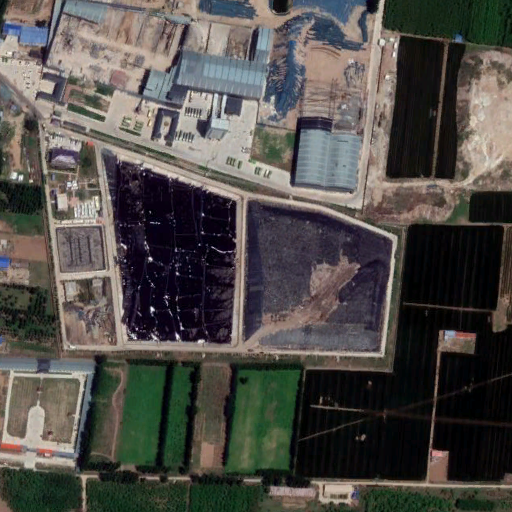lf: (93, 141, 405, 376)
